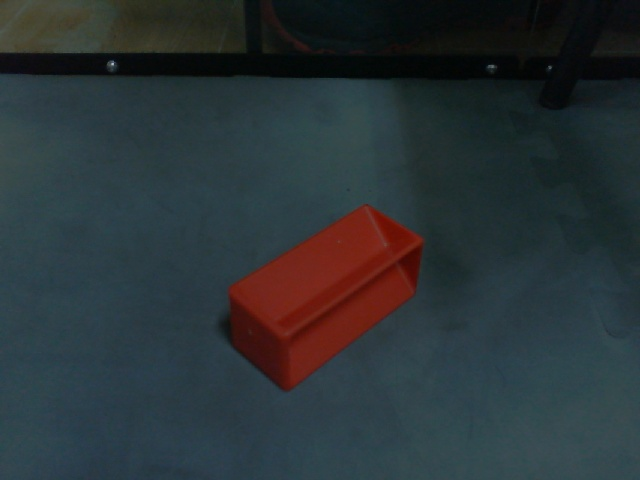RedSample: (225, 201, 427, 395)
